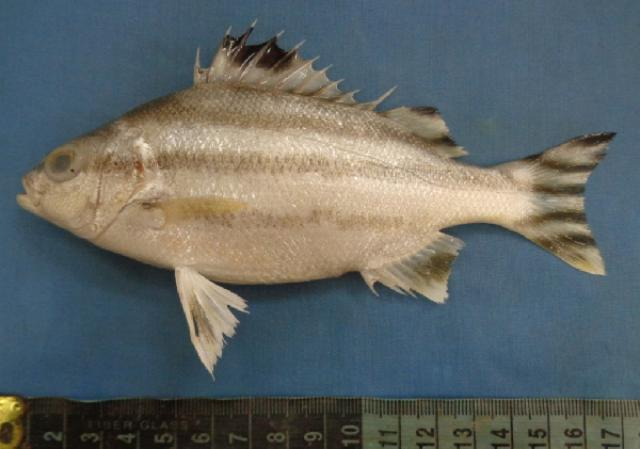Mulut: (6, 161, 52, 232)
Sirip Anal: (360, 225, 470, 311)
Sirip Dada: (150, 179, 256, 233)
Sirip Ekor: (506, 115, 628, 283)
Sirip Perut: (168, 260, 255, 384)
Sirip Punggung: (188, 13, 474, 170)
